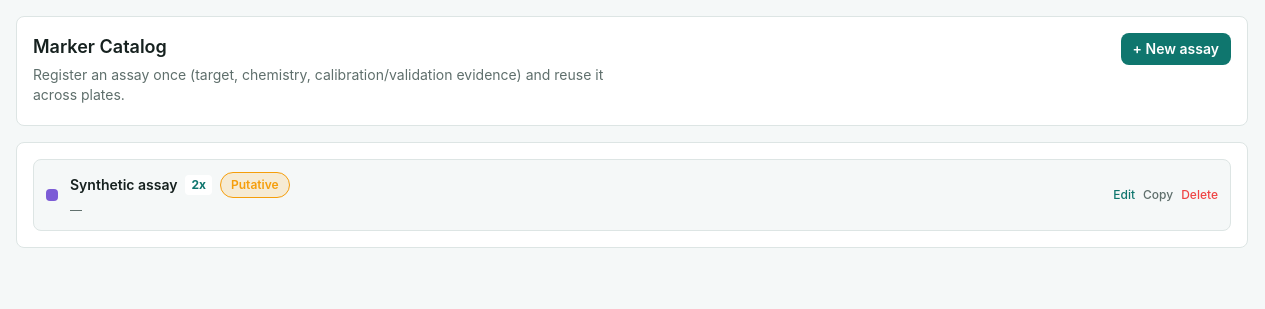
Test: distinguishes copy success with failed refresh while retaining the old list
The width and height of the screenshot is (1265, 309).
Expected: the text "Synthetic assay" is shown, [70,175,178,195]
Click the button with test id "catalog-copy-button".
click(1158, 195)  # box [1143,187,1173,203]
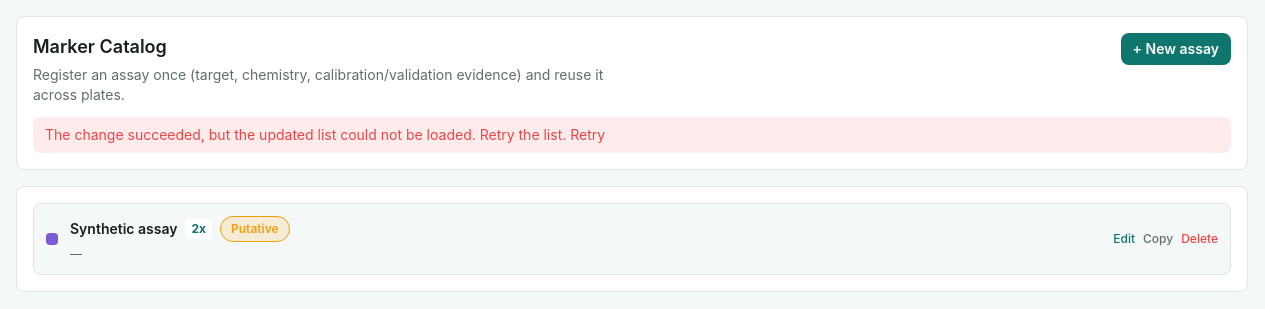
Expected: the text "Synthetic assay" is shown, [70,219,178,239]
Expected: the message shows "The change succeeded", [45,126,566,143]
